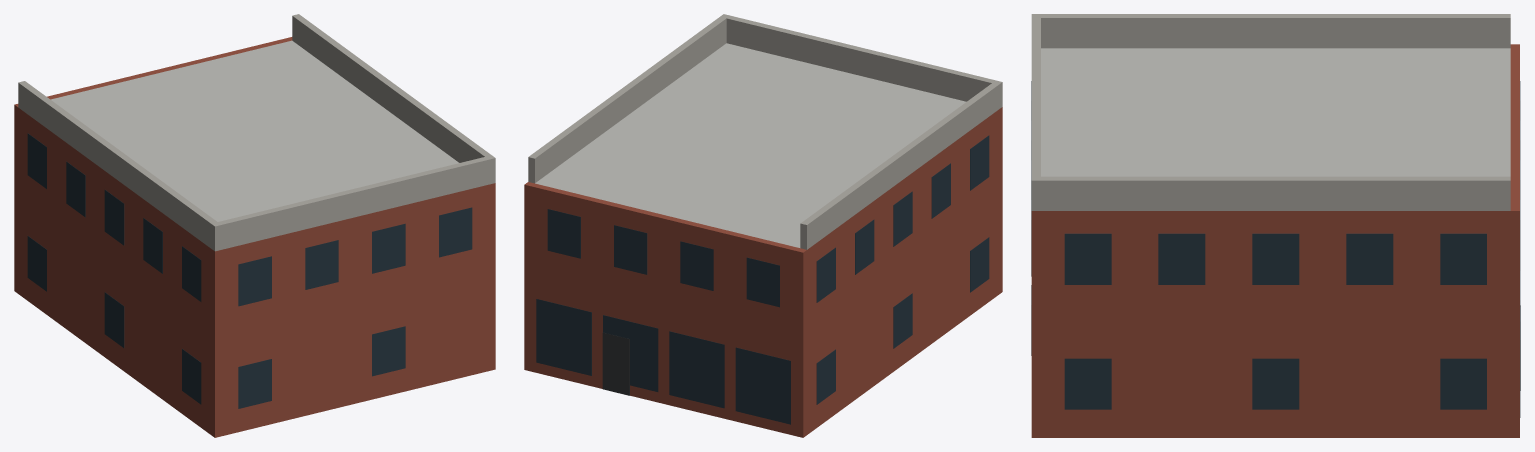
The model's file is bld_t2_mixed_quest.glb.
3 views of the same model, side by side, from view 1: azimuth 30°, elevation 25°; view 2: azimuth 150°, elevation 25°; view 3: azimuth 270°, elevation 25° (orthographic). The views are drawn at different scales.
Parts seen in each view (by area): view 1: bld_t2_mixed_quest-col; view 2: bld_t2_mixed_quest-col; view 3: bld_t2_mixed_quest-col.
Boxes of the visible parts, x1,y1,x2,y2 form: bld_t2_mixed_quest-col: (14, 14, 495, 437); bld_t2_mixed_quest-col: (524, 14, 1002, 437); bld_t2_mixed_quest-col: (1031, 14, 1520, 437).
Size of the model in its own units: 12.62 by 9.07 by 15.63.
